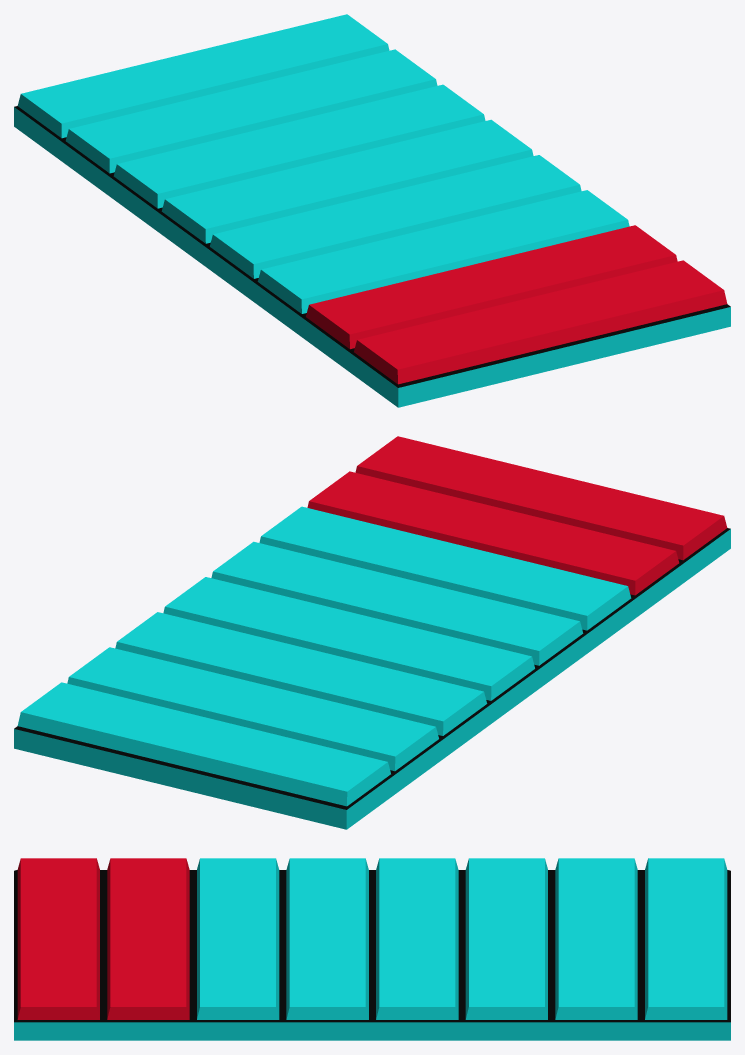
3 renders of one model, top to bottom at view 1: azimuth 30°, elevation 25°; view 2: azimuth 150°, elevation 25°; view 3: azimuth 270°, elevation 25°, orthographic. The views are drawn at different scales.
Parts seen in each view (by area): view 1: Plane; view 2: Plane; view 3: Plane.
Boxes of the visible parts, bbox=[...] form: Plane: bbox=[14, 14, 730, 407]; Plane: bbox=[14, 436, 730, 829]; Plane: bbox=[14, 858, 730, 1040].
Size of the model in its own units: 200 by 19.9 by 400.
